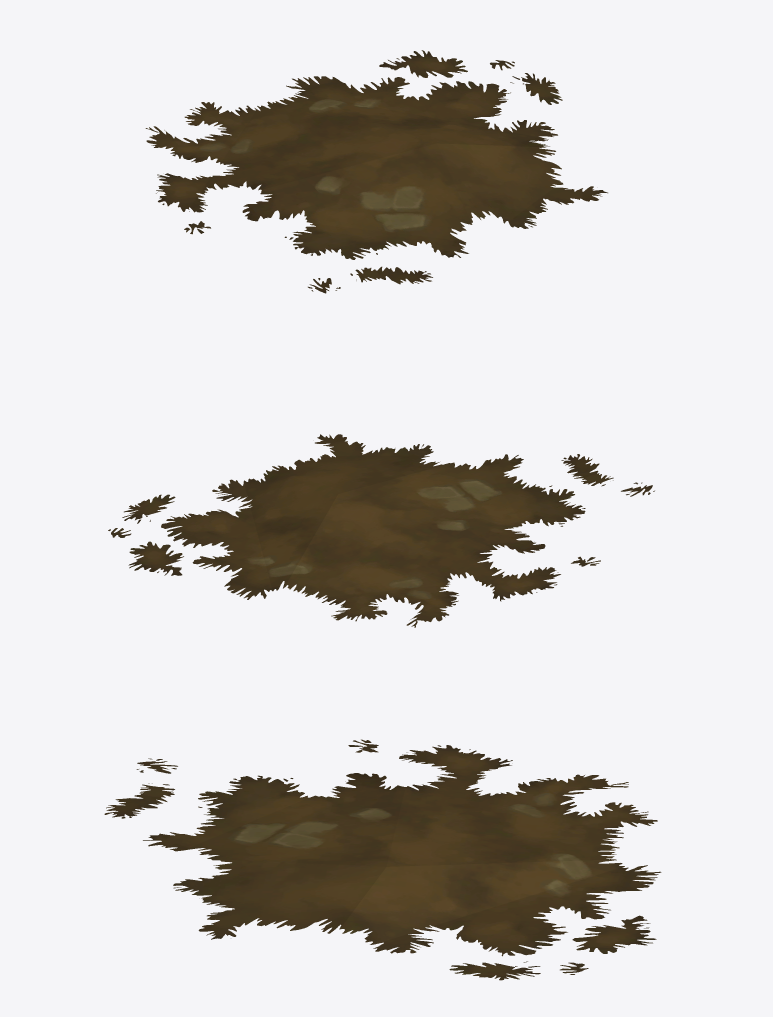
The model's file is rockydecal_03.fbx.
3 renders of one model, top to bottom at view 1: azimuth 30°, elevation 25°; view 2: azimuth 150°, elevation 25°; view 3: azimuth 270°, elevation 25°, orthographic. The views are drawn at different scales.
Visible parts, largest first — view 1: obj0.007; view 2: obj0.007; view 3: obj0.007.
Part boxes in pixels (<box>): obj0.007: <box>145,50,607,293</box>; obj0.007: <box>108,434,654,627</box>; obj0.007: <box>104,739,661,980</box>.
Bounding box in the file's own units: 8.98 × 0.279 × 9.76.
